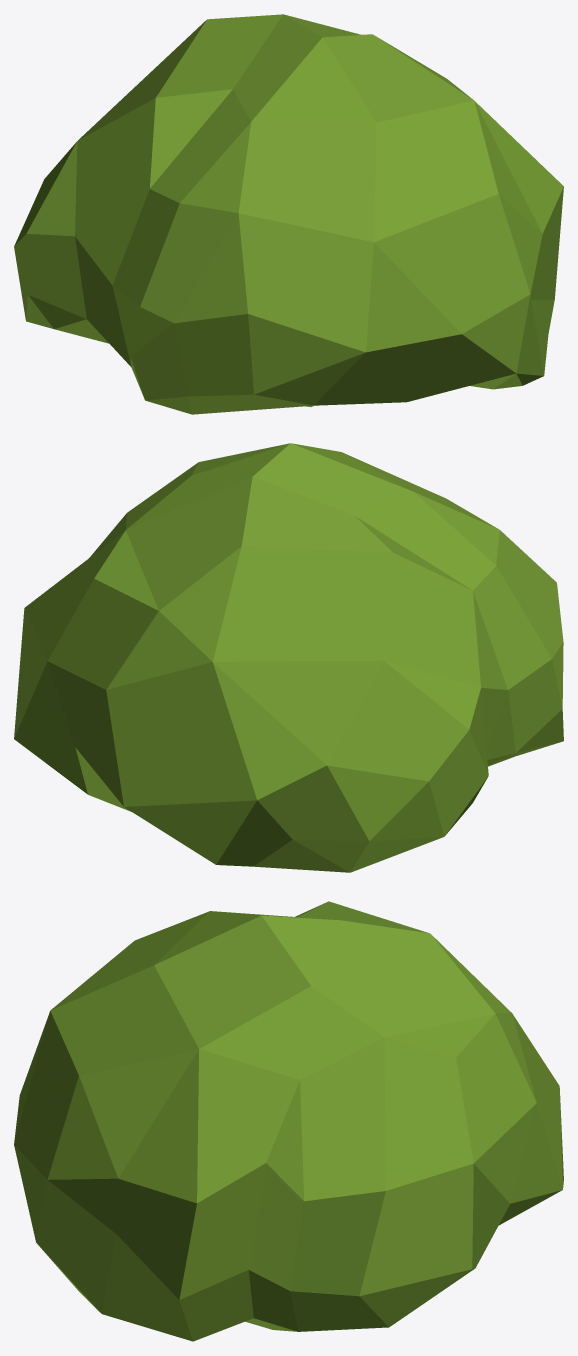
Rendered from bush_2.fbx.
The picture shows the model from 3 angles, top to bottom: view 1: azimuth 30°, elevation 25°; view 2: azimuth 150°, elevation 25°; view 3: azimuth 270°, elevation 25°; orthographic projection. The views are drawn at different scales.
Parts seen in each view (by area): view 1: bush_2; view 2: bush_2; view 3: bush_2.
Boxes of the visible parts, x1=… form: bush_2: x1=14, y1=14, x2=563, y2=414; bush_2: x1=14, y1=443, x2=563, y2=872; bush_2: x1=14, y1=901, x2=563, y2=1341.
Bounding box in the file's own units: 620 × 440 × 629.
